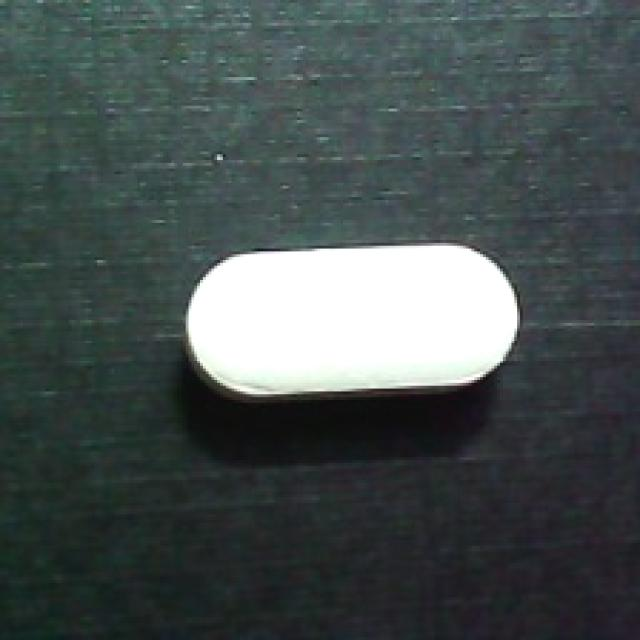no-defect: (183, 237, 523, 409)
